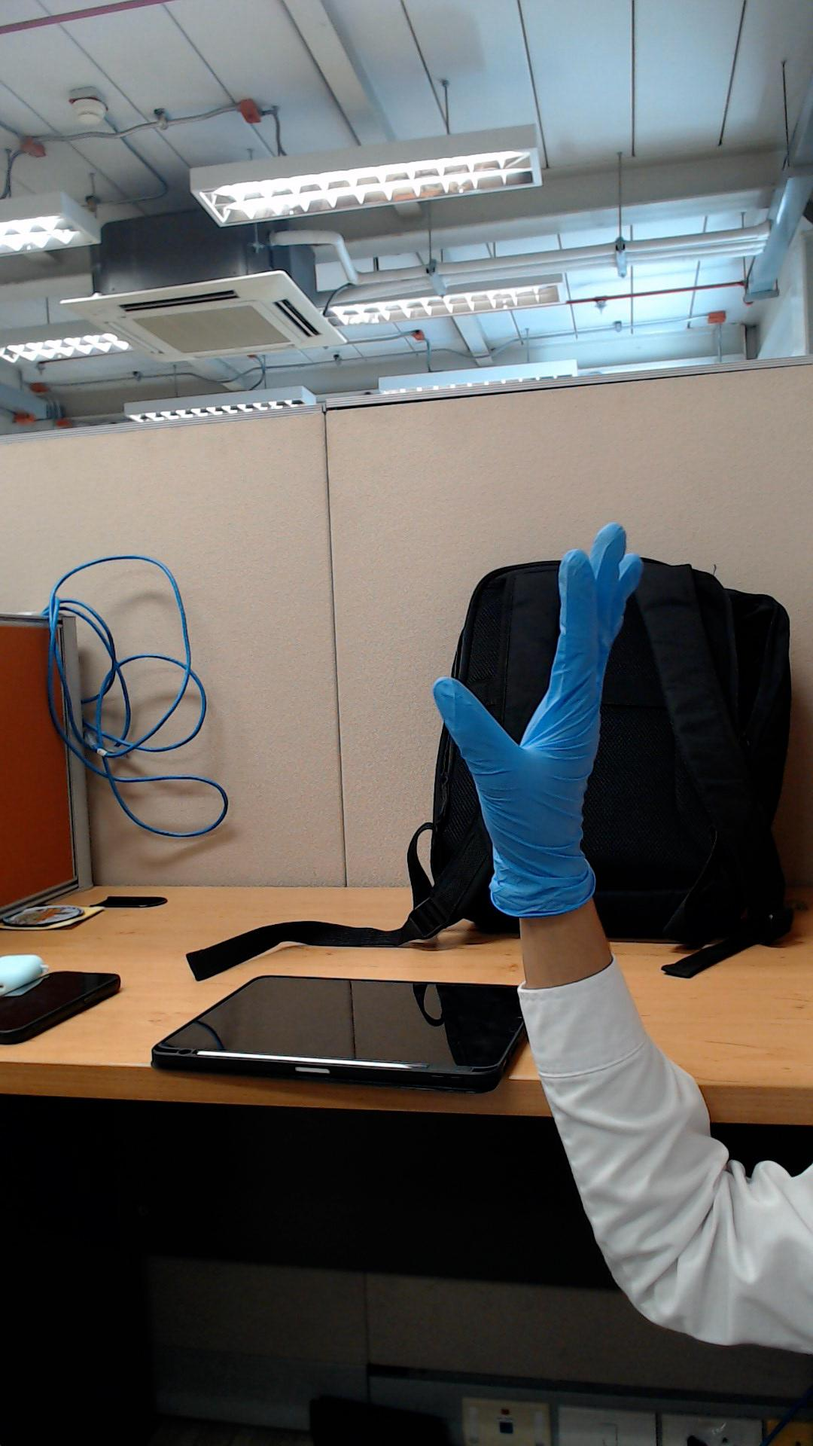gloves: (407, 488, 653, 840)
